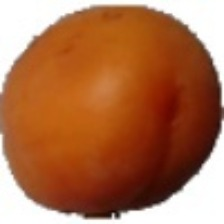apricot: (30, 31, 224, 219)
